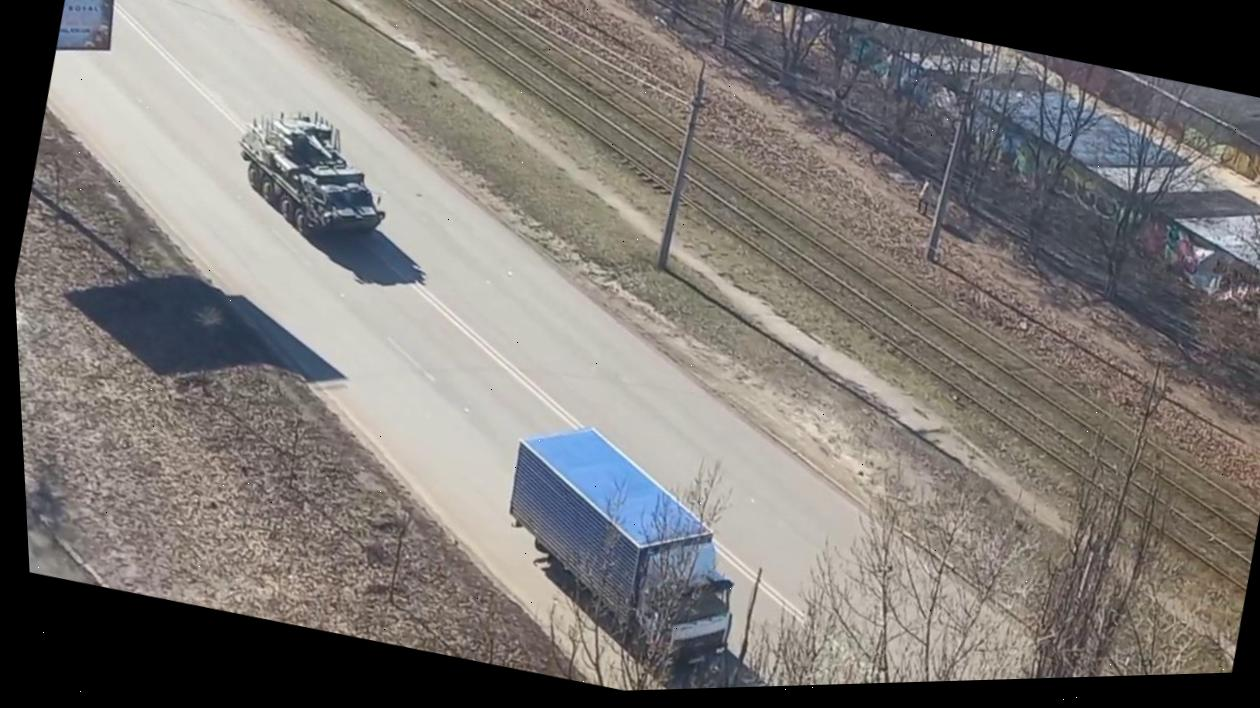person: (910, 174, 941, 219)
tank: (216, 100, 406, 261)
truck: (472, 407, 777, 695)
